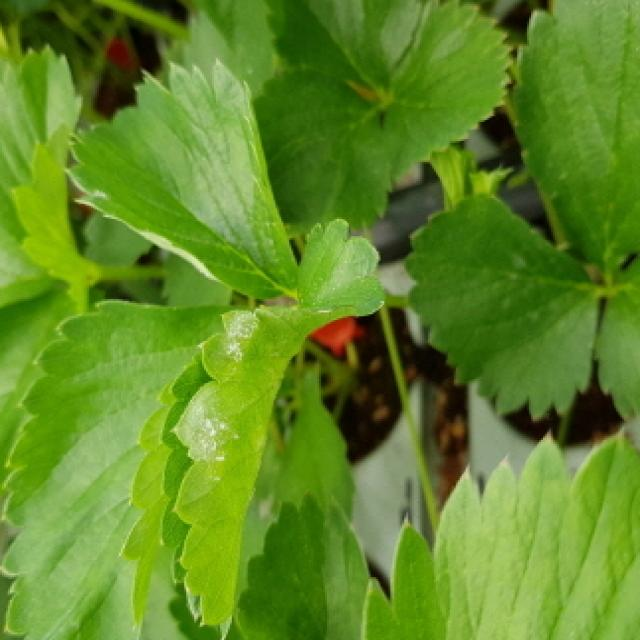Powdery Mildew Leaf: (159, 304, 338, 640), (57, 57, 302, 300)
